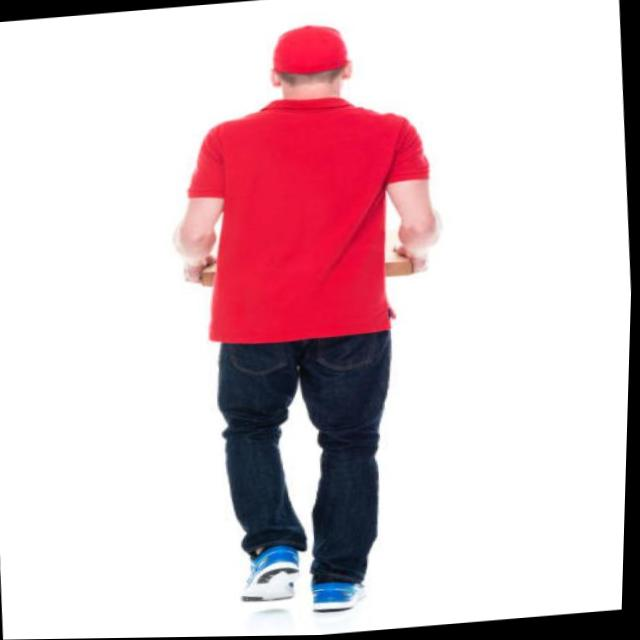no helmet: (237, 17, 376, 116)
